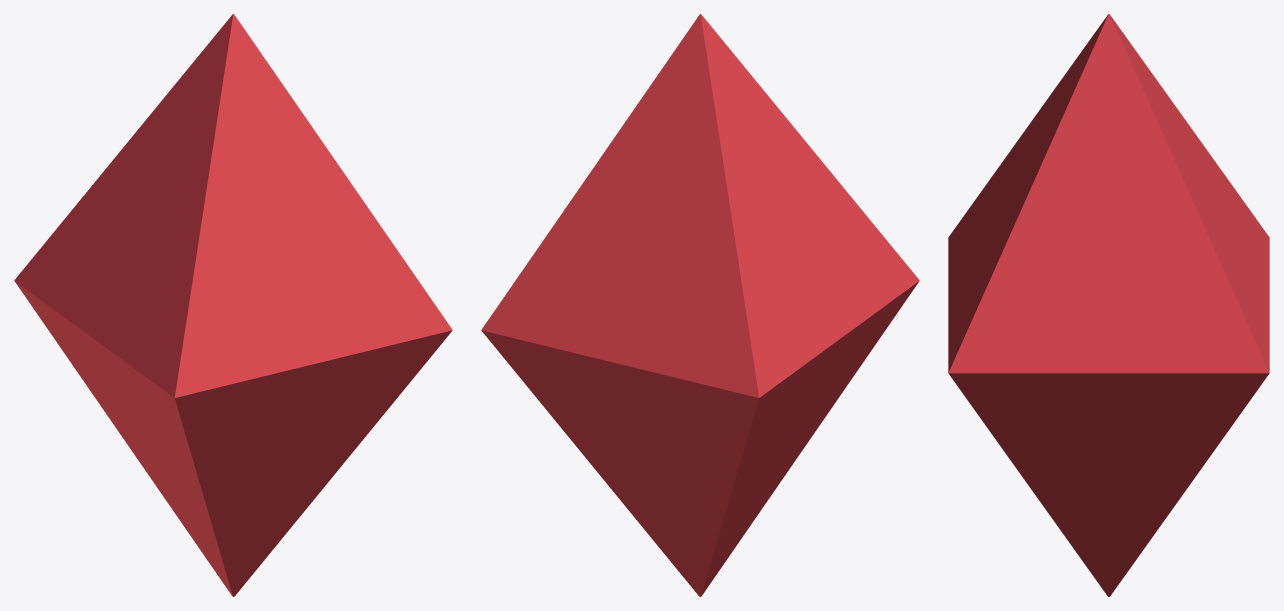
File: diamond.fbx
3 renders of one model, left to right at view 1: azimuth 30°, elevation 25°; view 2: azimuth 150°, elevation 25°; view 3: azimuth 270°, elevation 25°, orthographic.
Visible parts, largest first — view 1: Cube; view 2: Cube; view 3: Cube.
Part boxes in pixels (box(x1,y1,x2,y2)): Cube: box(14, 14, 452, 596); Cube: box(481, 14, 919, 596); Cube: box(948, 14, 1269, 596).
Bounding box in the file's own units: 2 × 4 × 2.
